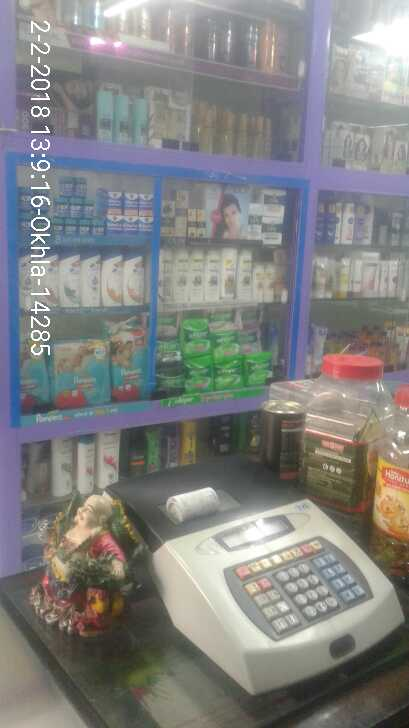vicks: (18, 174, 153, 243)
